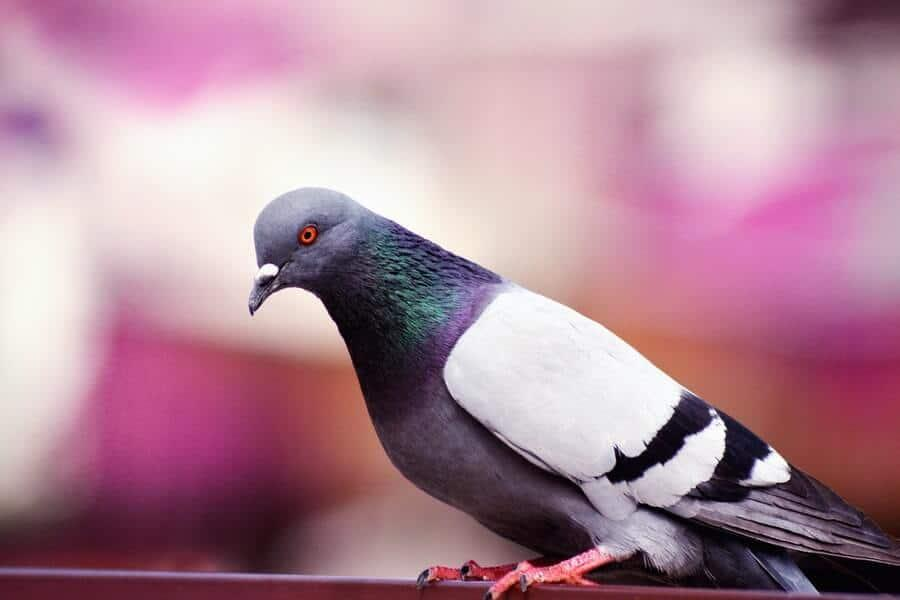Flying Rat: (232, 184, 896, 592)
